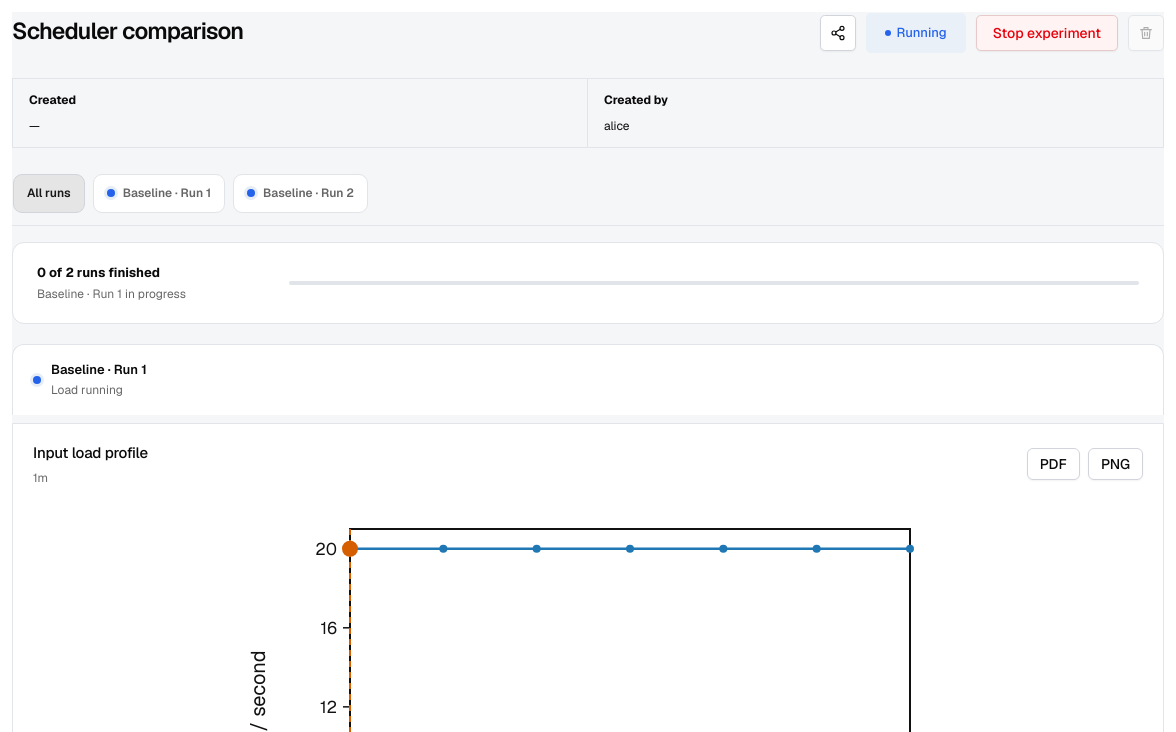
Test case: focused experiment results › shows planned runs and a contextual empty state while runs are active
The width and height of the screenshot is (1176, 732).
Expected: the element named "0 of 2 runs finished" is shown, left=289, top=281, right=1139, bottom=285
Expected: the text "Created by" shows "alice", left=604, top=118, right=630, bottom=134
Click the button "Baseline · Run 1" at (159, 193), box left=93, top=174, right=225, bottom=213
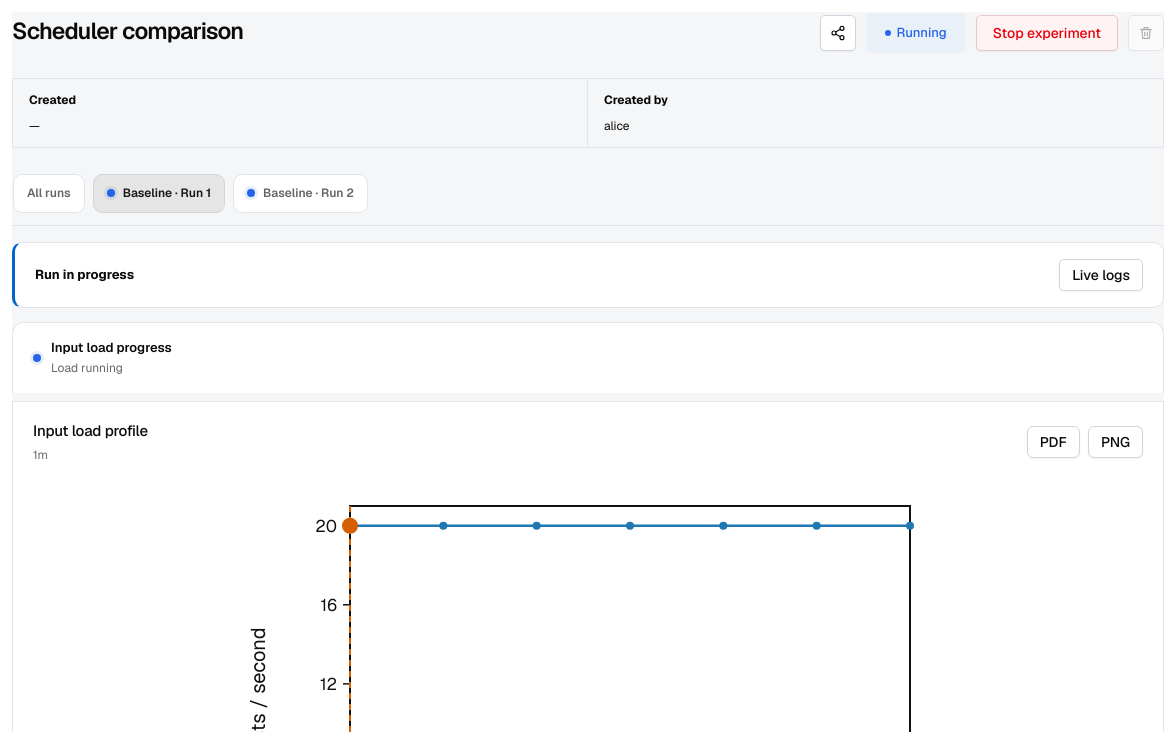
Expected: the text "Load running" is shown, left=51, top=360, right=123, bottom=376
Expected: the button "Live logs" is shown, left=1059, top=259, right=1143, bottom=291
Click the button "Baseline · Run 2" at (301, 193), box left=233, top=174, right=368, bottom=213
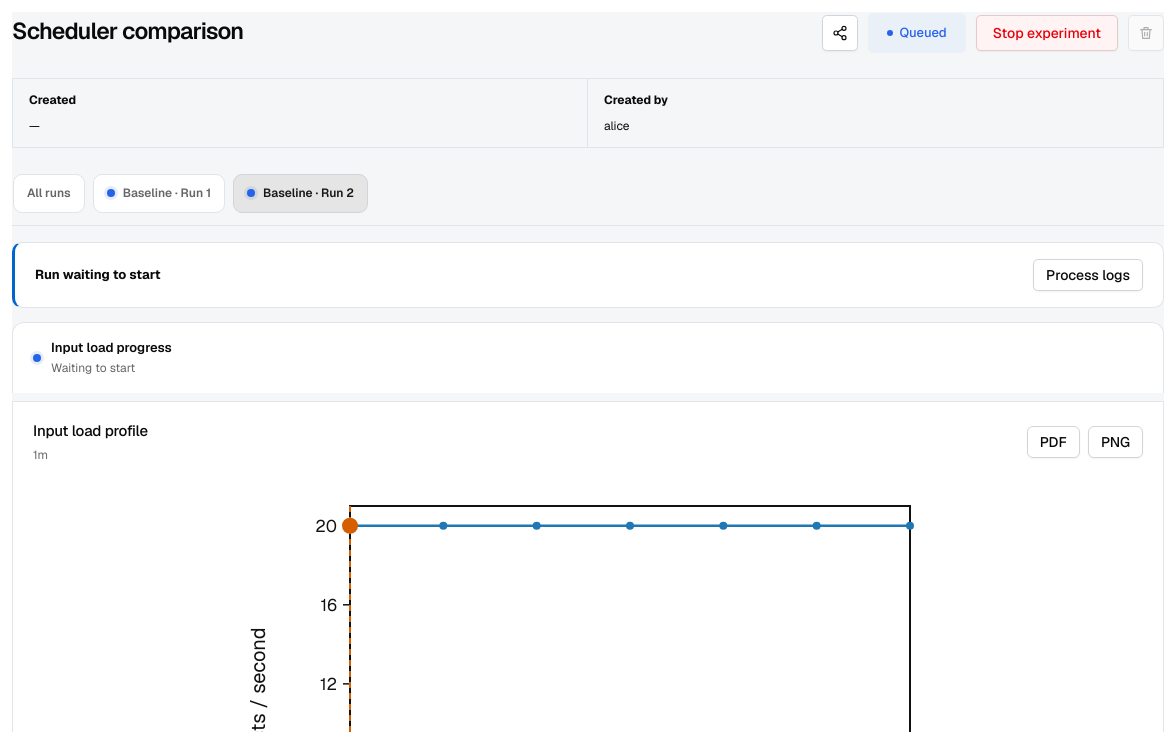
Expected: the text "Run waiting to start" is shown, left=35, top=266, right=161, bottom=283
Expected: the text "Waiting to start" is shown, left=51, top=360, right=135, bottom=376
Expected: the text "Run in progress" is gone
